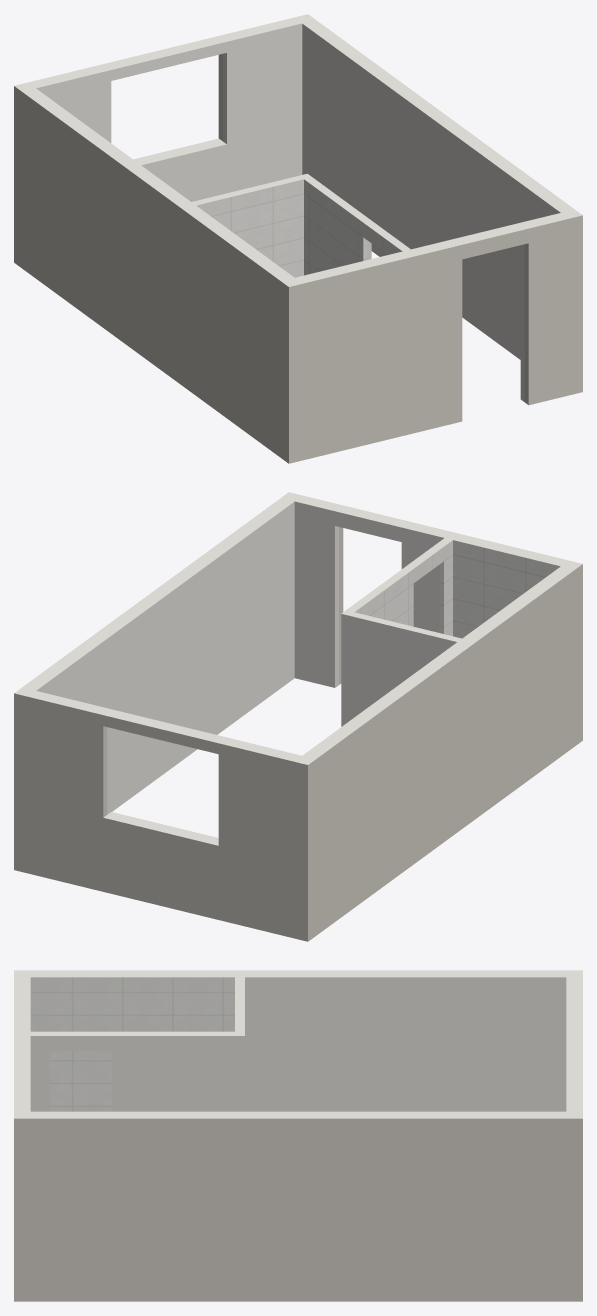
File: walls.glb
3 views of the same model, one above another, from view 1: azimuth 30°, elevation 25°; view 2: azimuth 150°, elevation 25°; view 3: azimuth 270°, elevation 25° (orthographic). The views are drawn at different scales.
Visible parts, largest first — view 1: wall_E04_upper, wall_E02_upper, wall_E03_upper, wall_E04_lower, wall_E03_lower, wall_E01_upper, wall_E02_lower, wall_E01_lower, wall_I01_upper, wall_I02_upper; view 2: wall_E04_upper, wall_E01_lower, wall_E02_upper, wall_E04_lower, wall_E01_upper, wall_E03_upper, wall_E02_lower, wall_I01_upper, wall_E03_lower, wall_I02_upper; view 3: wall_E02_upper, wall_E02_lower, wall_E04_upper, wall_E04_lower, wall_I02_upper, wall_E01_upper, wall_E03_upper, wall_E01_lower, wall_I01_upper.
Part boxes in pixels (bbox=[...]): wall_E04_upper: bbox=[22, 88, 294, 377]; wall_E02_upper: bbox=[302, 20, 582, 310]; wall_E03_upper: bbox=[280, 213, 568, 378]; wall_E04_lower: bbox=[22, 183, 288, 462]; wall_E03_lower: bbox=[280, 310, 568, 463]; wall_E01_upper: bbox=[14, 14, 315, 182]; wall_E02_lower: bbox=[302, 115, 582, 395]; wall_E01_lower: bbox=[14, 115, 302, 267]; wall_I01_upper: bbox=[192, 173, 311, 273]; wall_I02_upper: bbox=[304, 177, 410, 274]; wall_E04_upper: bbox=[302, 564, 582, 850]; wall_E01_lower: bbox=[14, 785, 316, 941]; wall_E02_upper: bbox=[22, 492, 302, 713]; wall_E04_lower: bbox=[316, 656, 582, 935]; wall_E01_upper: bbox=[14, 687, 316, 856]; wall_E03_upper: bbox=[294, 495, 582, 660]; wall_E02_lower: bbox=[111, 593, 294, 811]; wall_I01_upper: bbox=[341, 610, 461, 710]; wall_E03_lower: bbox=[294, 593, 582, 745]; wall_I02_upper: bbox=[346, 538, 452, 634]; wall_E02_upper: bbox=[14, 1111, 566, 1213]; wall_E02_lower: bbox=[14, 1213, 566, 1301]; wall_E04_upper: bbox=[30, 970, 566, 1071]; wall_E04_lower: bbox=[49, 1072, 566, 1111]; wall_I02_upper: bbox=[30, 1031, 234, 1111]; wall_E01_upper: bbox=[566, 970, 582, 1213]; wall_E03_upper: bbox=[14, 970, 30, 1111]; wall_E01_lower: bbox=[566, 1213, 582, 1301]; wall_I01_upper: bbox=[235, 977, 244, 1111].
Bounding box in the file's own units: 4.2 × 2.41 × 6.8.
4 materials, 1 textured.
